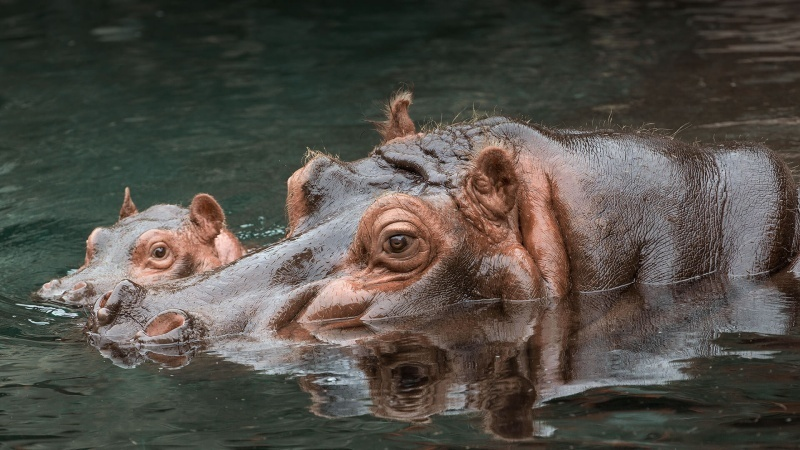hipopotamo: (92, 81, 800, 341), (34, 181, 294, 323)
